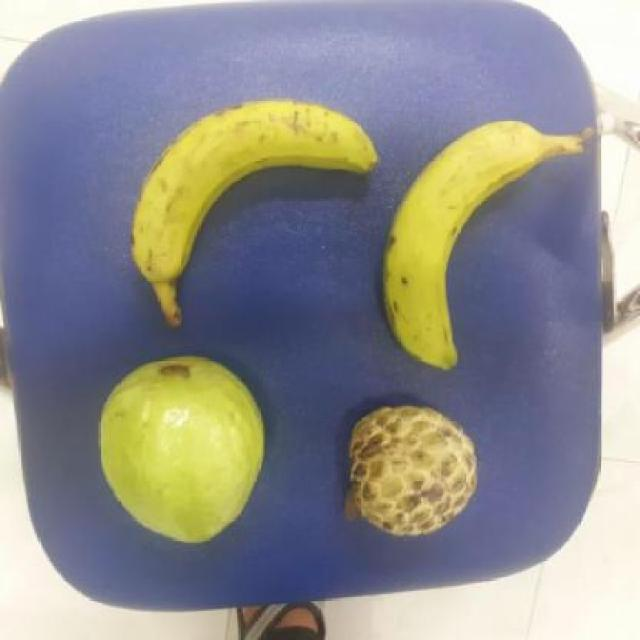banana: (125, 99, 372, 287), (380, 118, 558, 370)
guava: (88, 358, 264, 539)
sugar apple: (334, 406, 477, 540)
